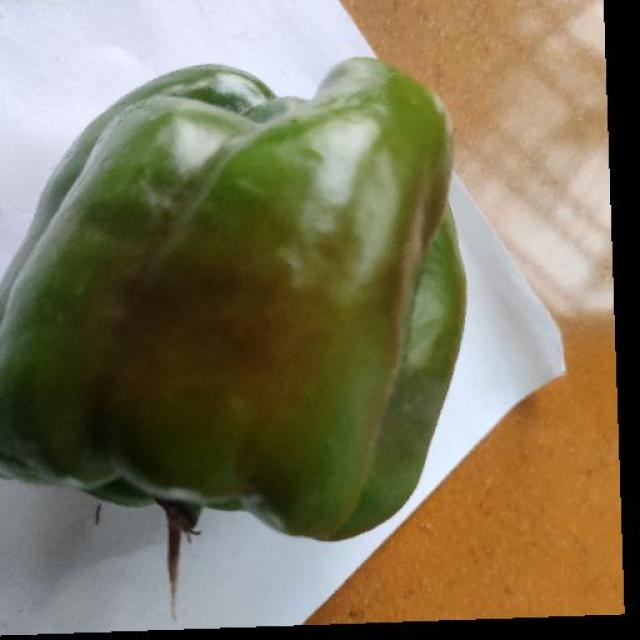Stale_Capsicum: (95, 82, 509, 573)
